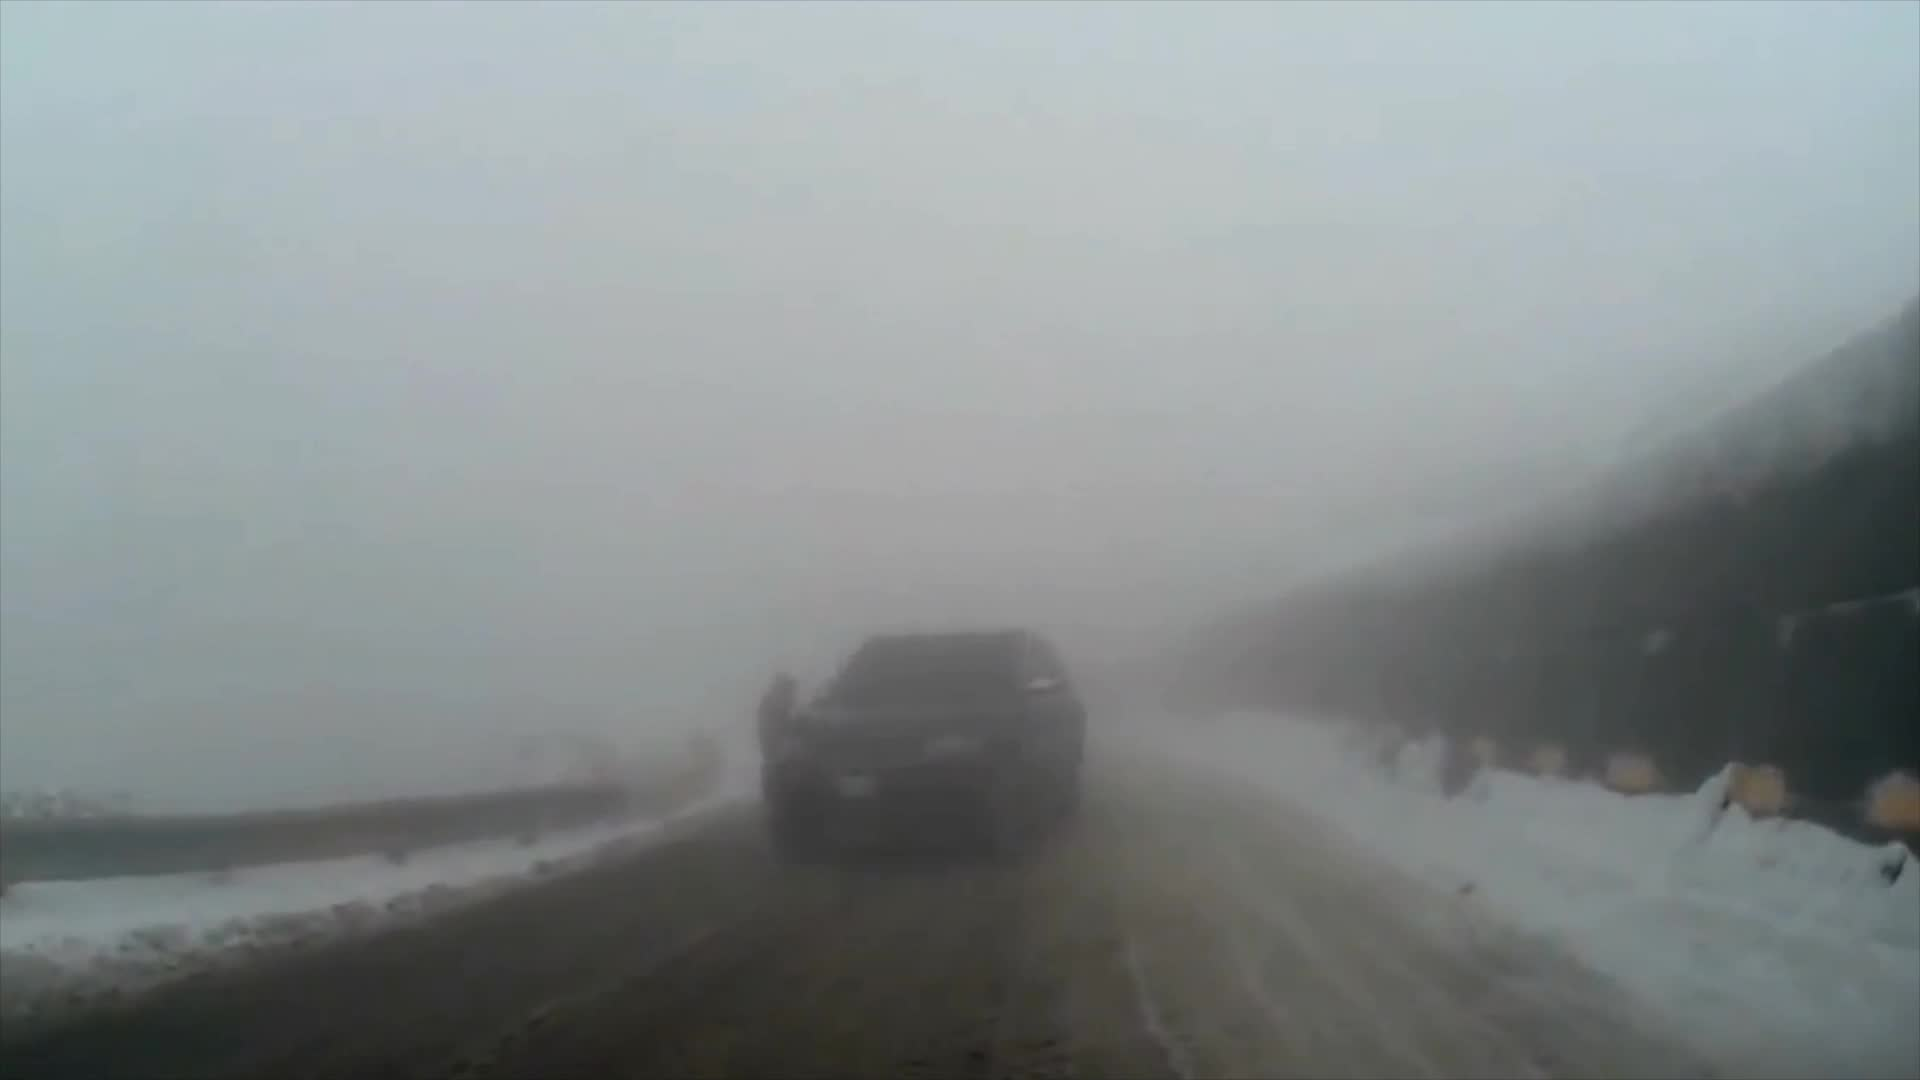pedestrian: (747, 663, 811, 811)
vehicle: (759, 629, 1086, 870)
